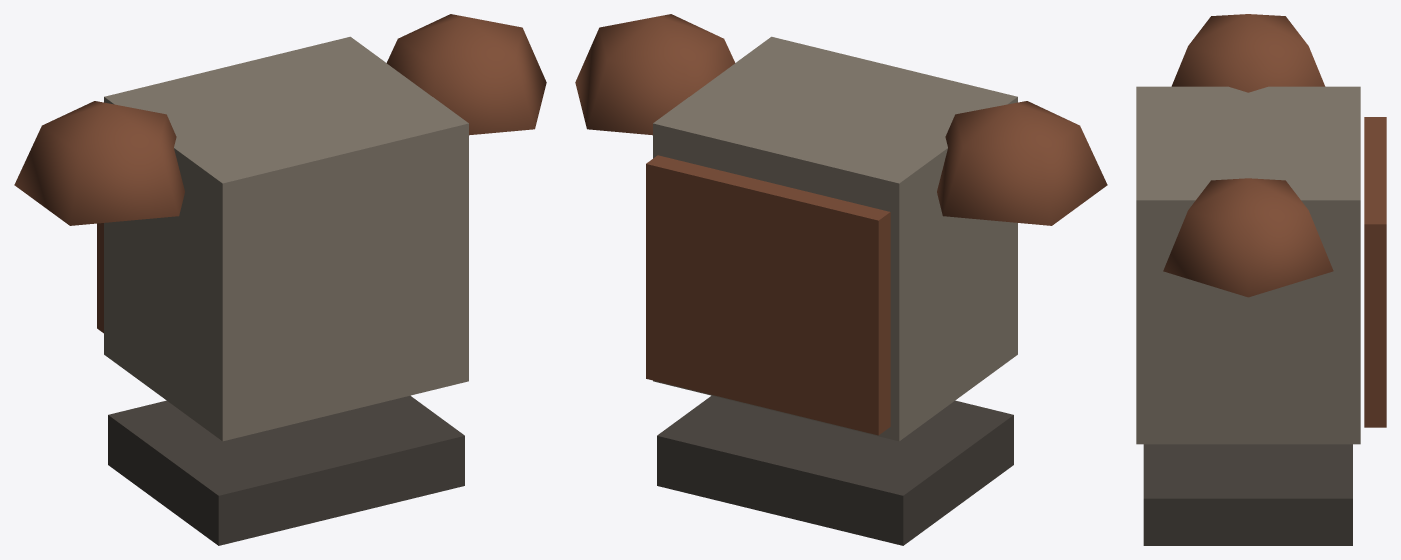
The picture shows the model from 3 angles, left to right: view 1: azimuth 30°, elevation 25°; view 2: azimuth 150°, elevation 25°; view 3: azimuth 270°, elevation 25°; orthographic projection. The views are drawn at different scales.
Visible parts, largest first — view 1: raider_armor_steel; view 2: raider_armor_steel; view 3: raider_armor_steel.
Part boxes in pixels (x1=…): raider_armor_steel: x1=14, y1=14, x2=546, y2=545; raider_armor_steel: x1=575, y1=14, x2=1107, y2=545; raider_armor_steel: x1=1136, y1=14, x2=1386, y2=545.
Size of the model in its own units: 0.7371 by 0.58 by 0.335.
